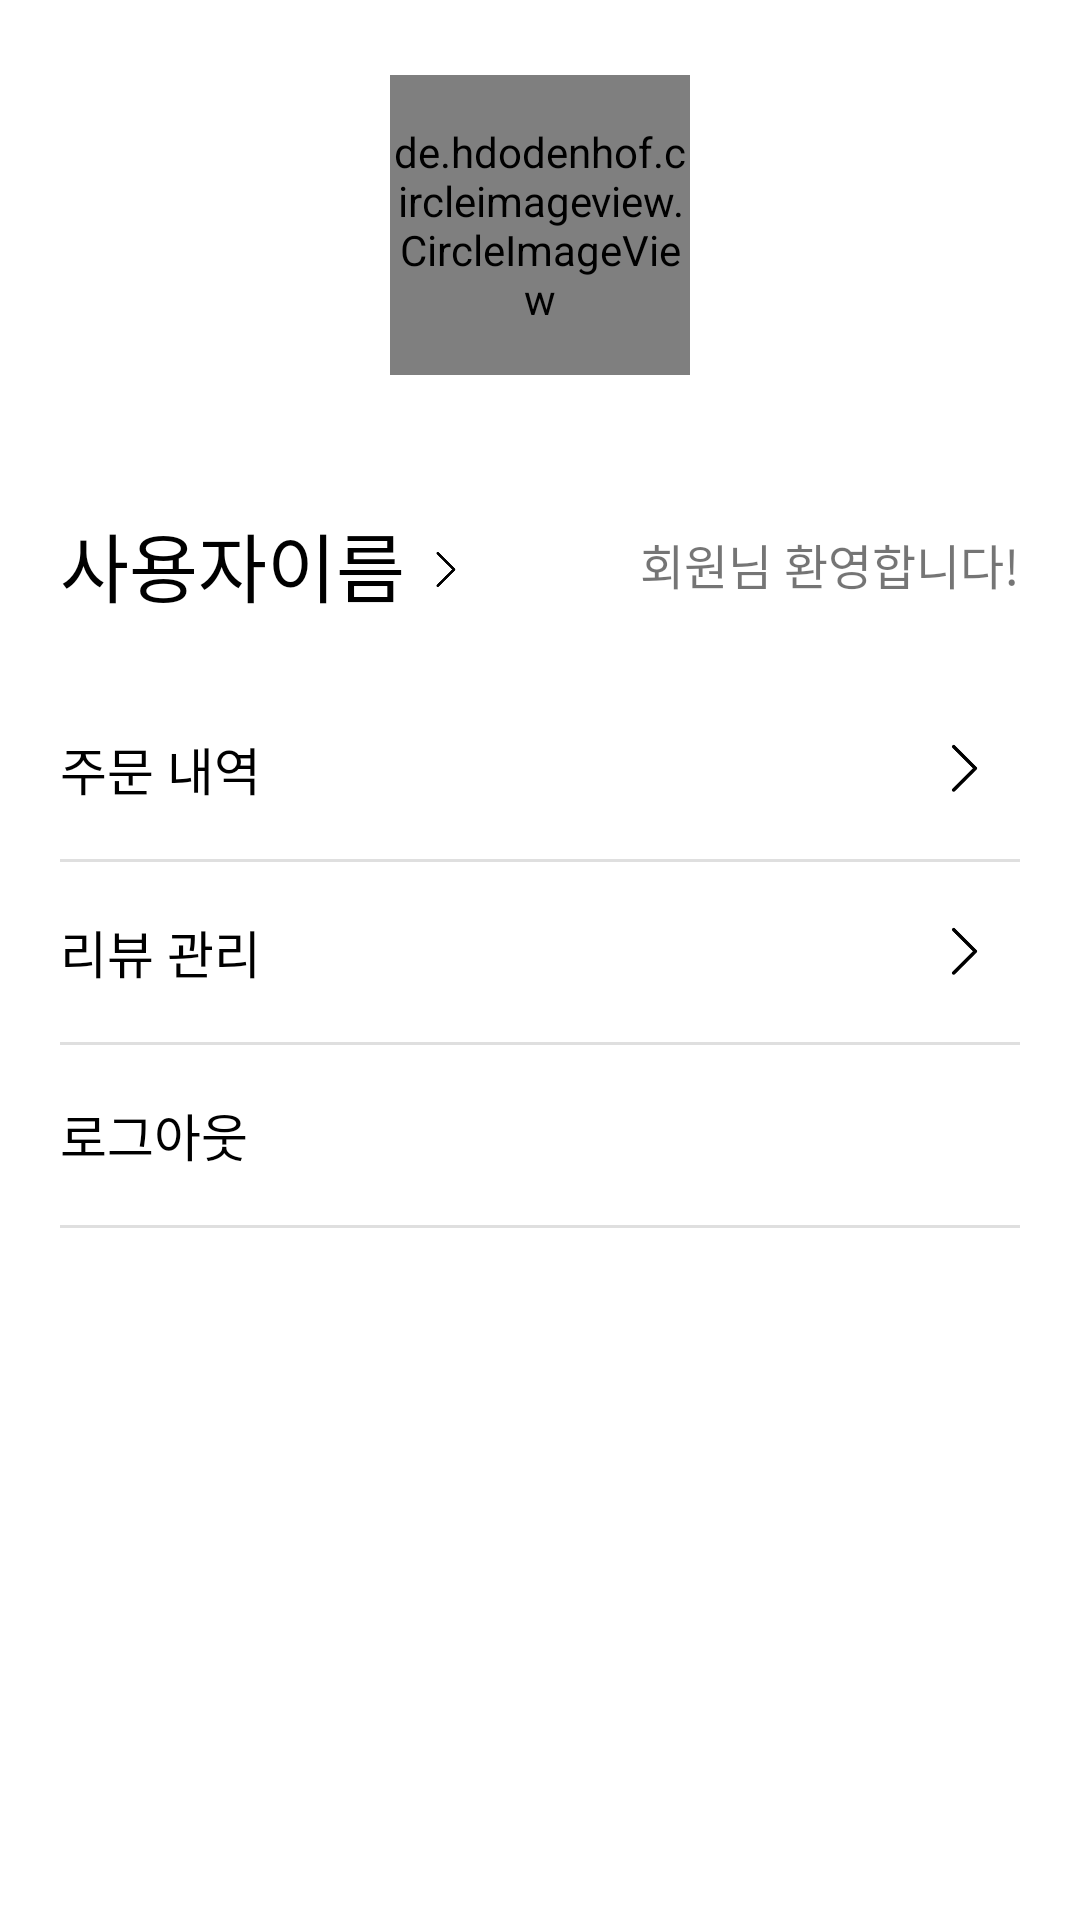

Where icons sit on this 1080w x 1920h app screen, as (x1, y1, x2, y2):
right arrow: (436, 552, 456, 587), (952, 745, 977, 792), (952, 928, 977, 975)
